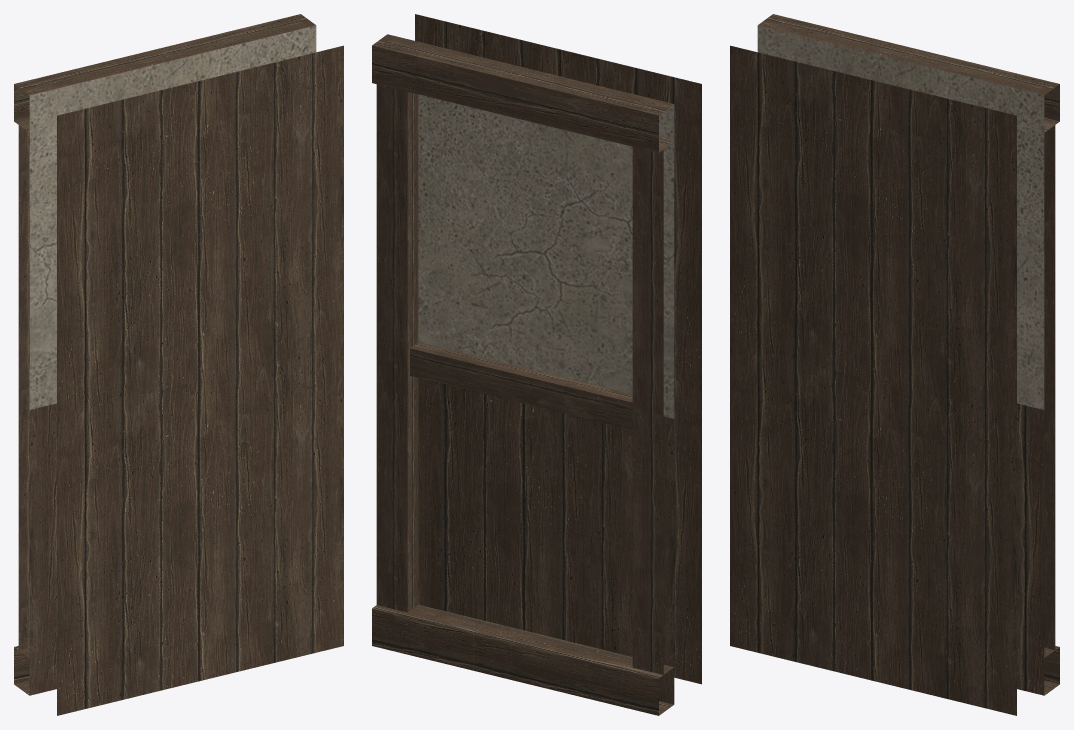
File: ARC1010278.fbx
3 renders of one model, left to right at view 1: azimuth 30°, elevation 25°; view 2: azimuth 150°, elevation 25°; view 3: azimuth 330°, elevation 25°, orthographic.
Parts seen in each view (by area): view 1: smARC1010278; view 2: smARC1010278; view 3: smARC1010278.
Part boxes in pixels (left/top/right/bottom): smARC1010278: left=14, top=14, right=343, bottom=715; smARC1010278: left=372, top=14, right=701, bottom=715; smARC1010278: left=730, top=14, right=1059, bottom=715.
Bounding box in the file's own units: 134 × 268 × 34.9.
Materials: 1 (1 with a texture image).
